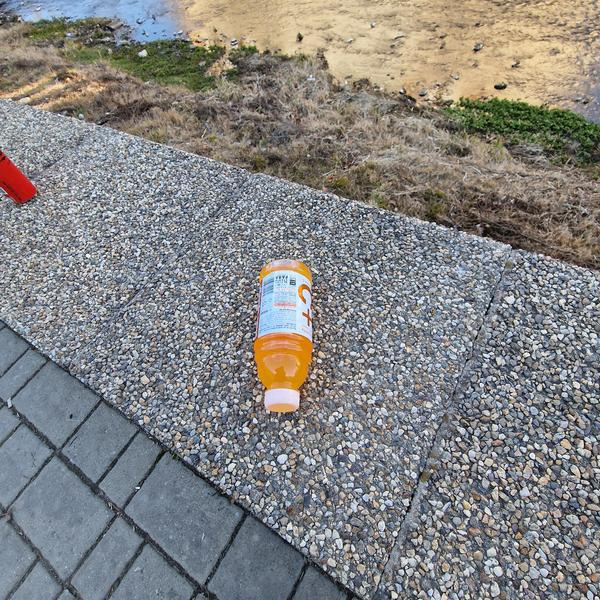can: (0, 145, 38, 205)
plastic_bottle: (254, 258, 312, 413)
